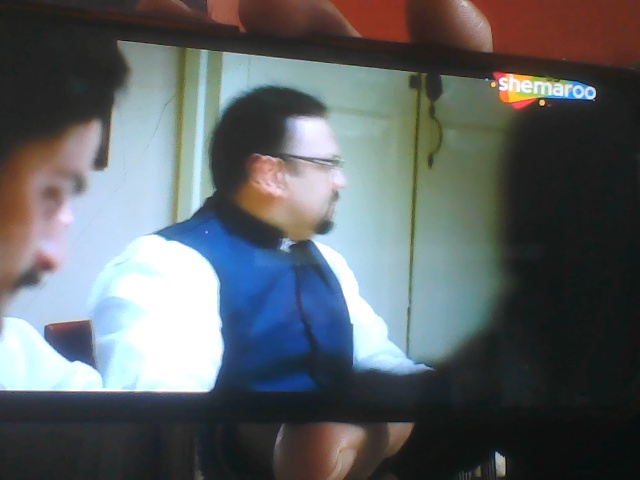fake: (237, 76, 352, 239)
